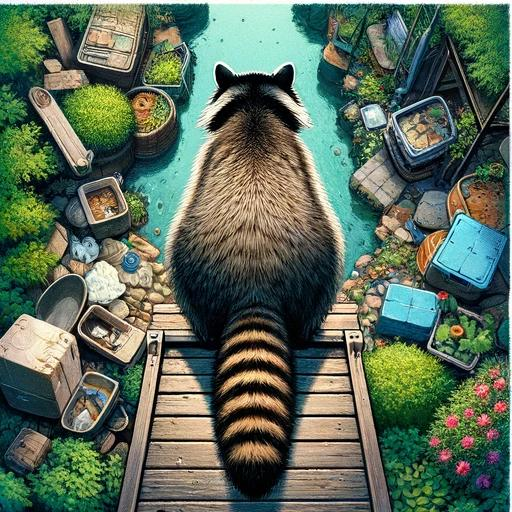raccoon: (158, 53, 354, 512)
